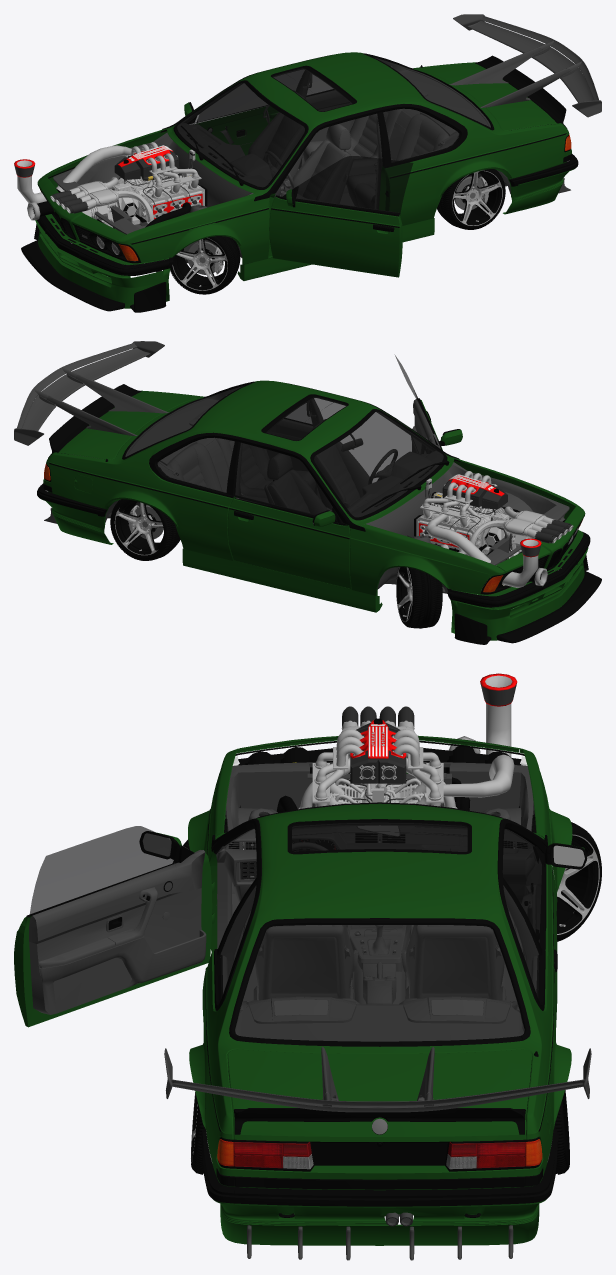
File: bmw-m3-e30-racing.glb
The picture shows the model from 3 angles, top to bottom: view 1: azimuth 30°, elevation 25°; view 2: azimuth 150°, elevation 25°; view 3: azimuth 270°, elevation 25°; orthographic projection. The views are drawn at different scales.
Visible parts, largest first — view 1: Object_131_Main Body_0, Object_35_etki_interior_0, Object_71_Main Body_0, Object_82_Glass_0, Object_134_Main Body_0, Carbon1.002, Object_13.001_blinn5SG_0, Object_129_Dark Metal_0, Object_71_Glass_0, Object_116_etki_glass.002_0, Object_55.001_Main Body_0, Object_172_etki_0 (+29 smaller); view 2: Object_131_Main Body_0, Object_35_etki_interior_0, Object_82_Glass_0, Object_234_Main Body_0, Object_134_Main Body_0, Carbon1.002, Object_129_Dark Metal_0, Object_13.001_blinn5SG_0, Object_116_etki_glass.002_0, Object_75_Glass_0, Object_172_etki_0, Object_55.001_Main Body_0 (+25 smaller); view 3: Object_131_Main Body_0, Object_116_etki_glass.002_0, Object_35_etki_interior_0, Object_50_Main Body_0, Object_129_Dark Metal_0, Object_71_etki_interior_0, Object_144_Main Body_0, Object_71_Glass_0, Object_143_Dark Metal_0, Object_13.001_blinn5SG_0, Object_32_etki_interior_0, Object_29_etki_interior_0 (+24 smaller).
Part boxes in pixels (left/top/right/bottom): Object_131_Main Body_0: left=166, top=52, right=571, bottom=258; Object_35_etki_interior_0: left=177, top=58, right=490, bottom=209; Object_71_Main Body_0: left=269, top=189, right=402, bottom=277; Object_82_Glass_0: left=177, top=83, right=304, bottom=187; Object_134_Main Body_0: left=37, top=128, right=269, bottom=264; Carbon1.002: left=449, top=14, right=601, bottom=117; Object_13.001_blinn5SG_0: left=50, top=142, right=204, bottom=227; Object_129_Dark Metal_0: left=160, top=53, right=571, bottom=264; Object_71_Glass_0: left=296, top=156, right=413, bottom=212; Object_116_etki_glass.002_0: left=307, top=58, right=490, bottom=161; Object_55.001_Main Body_0: left=35, top=214, right=170, bottom=308; Object_172_etki_0: left=53, top=132, right=510, bottom=272; Object_131_Main Body_0: left=43, top=380, right=454, bottom=589; Object_35_etki_interior_0: left=125, top=386, right=443, bottom=537; Object_82_Glass_0: left=314, top=411, right=443, bottom=517; Object_234_Main Body_0: left=227, top=497, right=351, bottom=588; Object_134_Main Body_0: left=349, top=457, right=585, bottom=595; Carbon1.002: left=14, top=341, right=168, bottom=445; Object_129_Dark Metal_0: left=43, top=381, right=460, bottom=531; Object_13.001_blinn5SG_0: left=416, top=471, right=573, bottom=557; Object_116_etki_glass.002_0: left=125, top=386, right=311, bottom=492; Object_75_Glass_0: left=235, top=443, right=332, bottom=515; Object_172_etki_0: left=105, top=462, right=569, bottom=595; Object_55.001_Main Body_0: left=450, top=530, right=588, bottom=640; Object_131_Main Body_0: left=189, top=803, right=571, bottom=1215; Object_116_etki_glass.002_0: left=220, top=885, right=538, bottom=1041; Object_35_etki_interior_0: left=216, top=823, right=540, bottom=1041; Object_50_Main Body_0: left=227, top=1049, right=532, bottom=1141; Object_129_Dark Metal_0: left=211, top=802, right=547, bottom=1189; Object_71_etki_interior_0: left=29, top=845, right=206, bottom=1014; Object_144_Main Body_0: left=213, top=1199, right=546, bottom=1245; Object_71_Glass_0: left=29, top=826, right=181, bottom=916; Object_143_Dark Metal_0: left=201, top=1127, right=558, bottom=1217; Object_13.001_blinn5SG_0: left=298, top=706, right=457, bottom=809; Object_32_etki_interior_0: left=401, top=925, right=506, bottom=1000; Object_29_etki_interior_0: left=253, top=925, right=358, bottom=1000.
Size of the model in its own units: 5.17 by 1.28 by 2.83.
51 materials, 6 textured.
